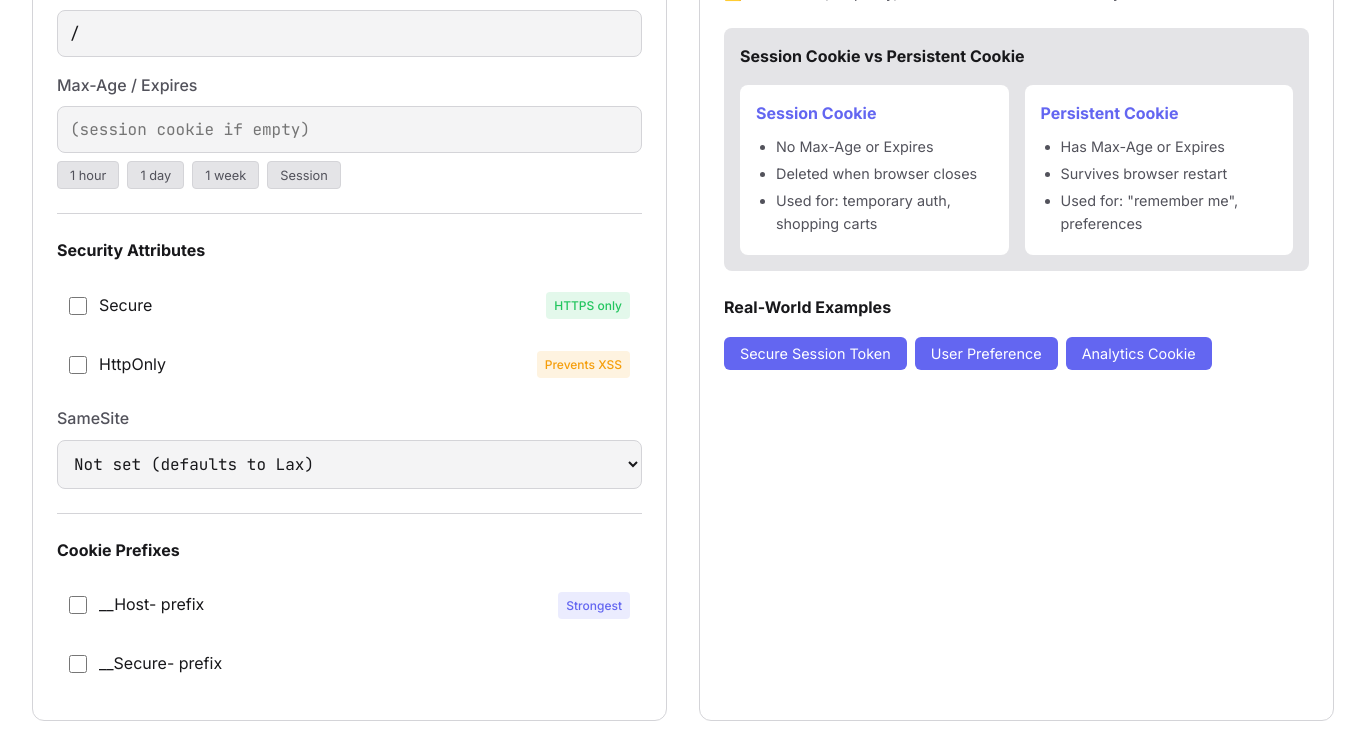
Test: CookieAnatomy › shows SameSite attribute in preview when selected
(page scrolled)
Select "Strict" in the dropdown labelled "SameSite" at (350, 464), box [57, 440, 642, 489]
(page scrolled)
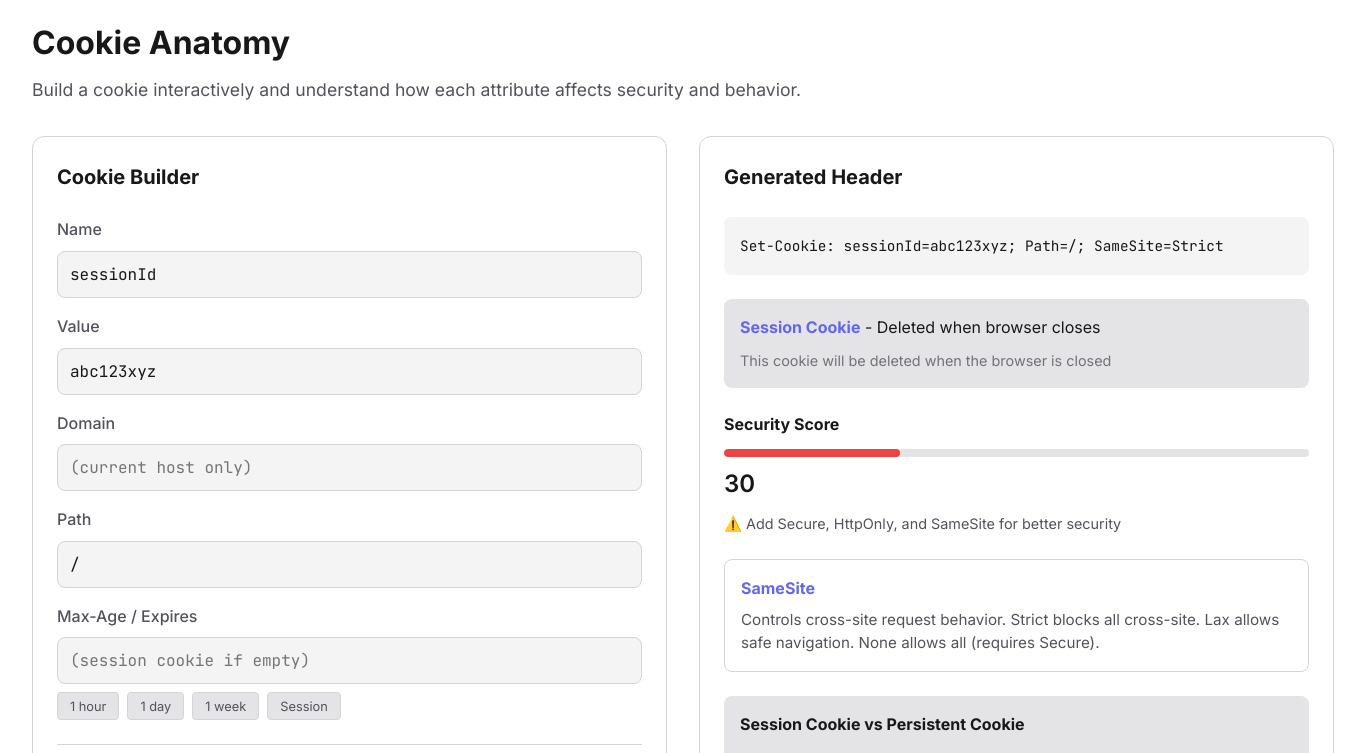
Result: the element with test id "cookie-preview" shows "SameSite=Strict" at [740, 236, 1224, 255]
